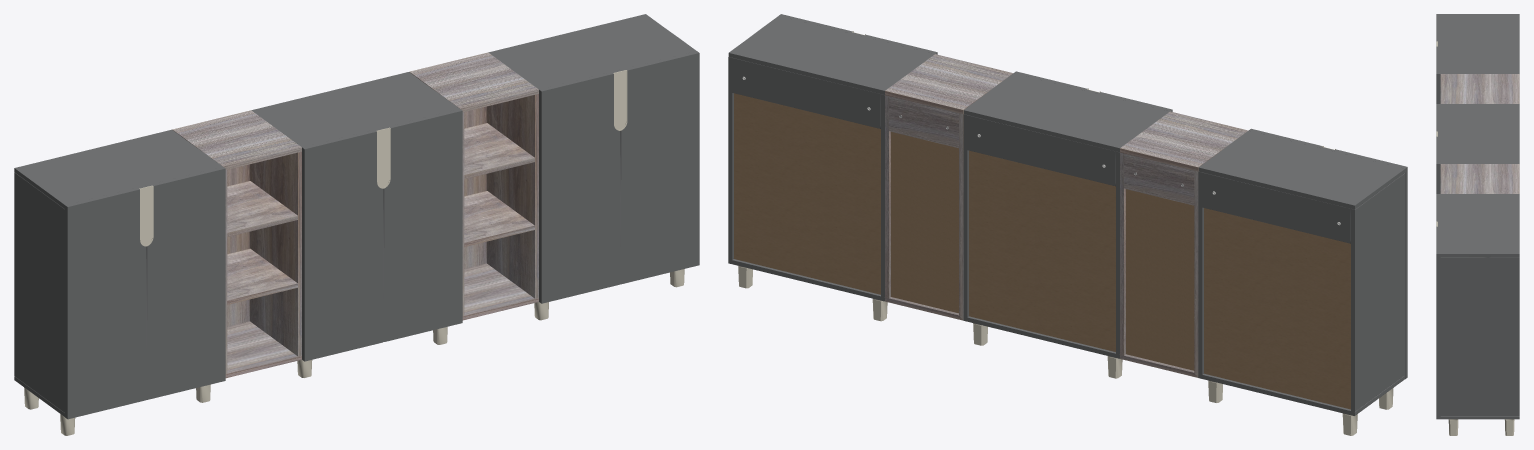
3 renders of one model, left to right at view 1: azimuth 30°, elevation 25°; view 2: azimuth 150°, elevation 25°; view 3: azimuth 270°, elevation 25°, orthographic. The views are drawn at different scales.
Visible parts, largest first — view 1: group_0.582, group_0.157, group_0.467, Cube.002, Cube.001, group_0.115, group_0.580, group_0.158; view 2: group_0.582, group_0.369, group_0.530, group_0.107, Cube.002, Cube.001, group_0.467, group_0.157, group_0.115; view 3: group_0.467, group_0.582, group_0.157, Cube.001, Cube.002, group_0.580.
Boxes of the visible parts, x1,y1,x2,y2 form: group_0.582: (14,129,225,419); group_0.157: (251,72,462,361); group_0.467: (488,14,699,303); Cube.002: (409,52,538,320); Cube.001: (172,110,301,378); group_0.115: (24,185,210,435); group_0.580: (534,70,684,320); group_0.158: (297,127,447,377); group_0.582: (1198,128,1407,415); group_0.369: (1204,208,1350,409); group_0.530: (734,93,880,294); group_0.107: (969,150,1115,351); Cube.002: (885,54,1013,320); Cube.001: (1120,111,1248,377); group_0.467: (728,14,937,301); group_0.157: (963,71,1172,358); group_0.115: (1208,146,1393,435); group_0.467: (1436,194,1519,419); group_0.582: (1436,14,1519,103); group_0.157: (1436,104,1519,193); Cube.001: (1440,74,1519,103); Cube.002: (1440,164,1519,193); group_0.580: (1436,221,1514,435).
Size of the model in its own units: 2.8 by 1 by 0.4115.
Materials: 7 (3 with a texture image).
